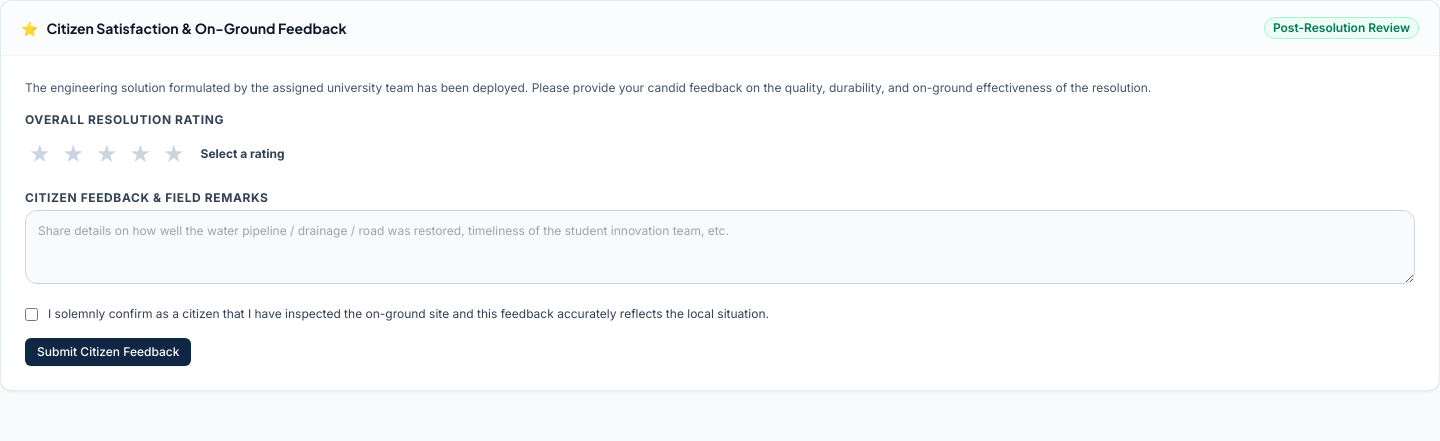
Scenario: FeedbackCard › requires a rating
The image size is (1440, 441).
Click the button "Submit Citizen Feedback".
click(108, 352)  # box [25,338,191,366]
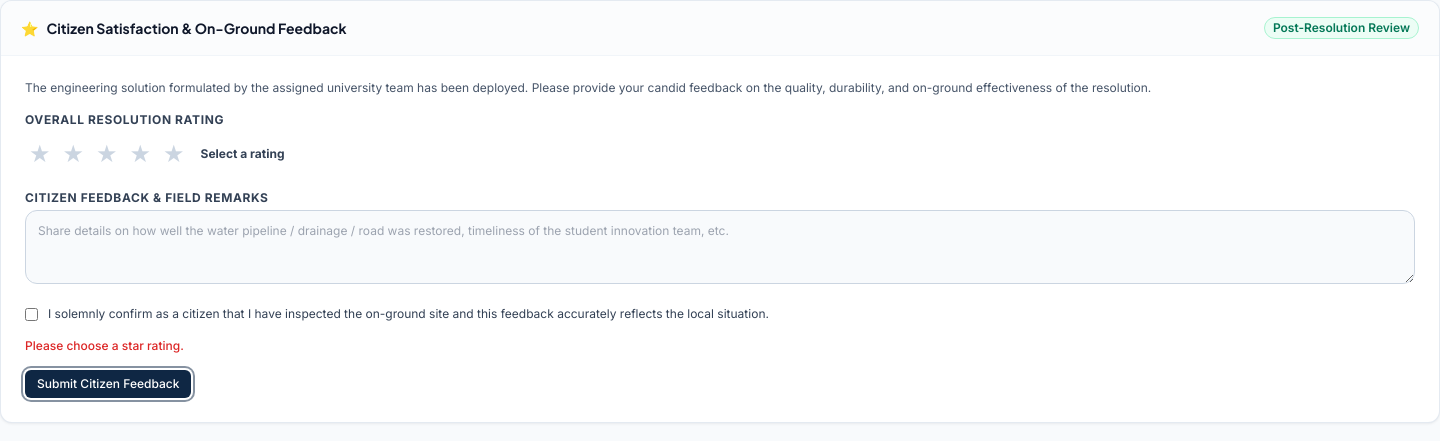
Result: the message shows "star rating" at [25,338,184,353]
